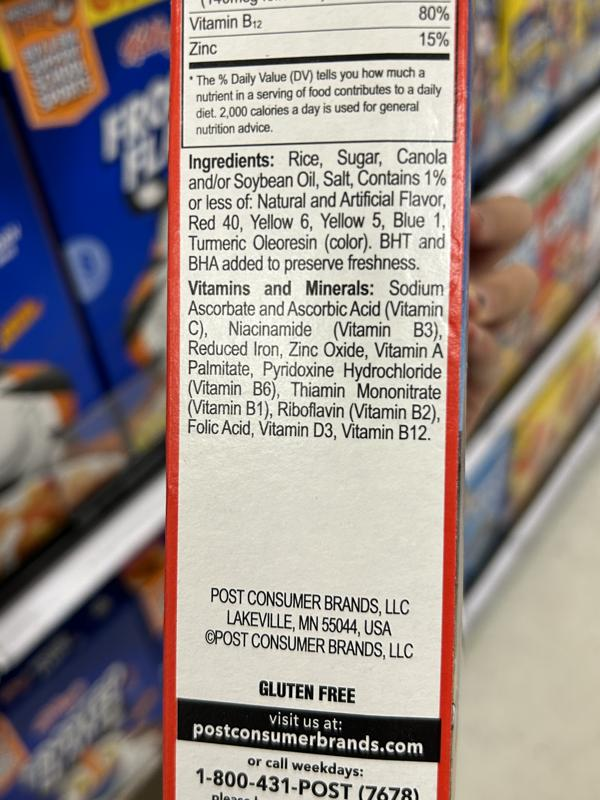ingredients: (186, 146, 448, 273)
